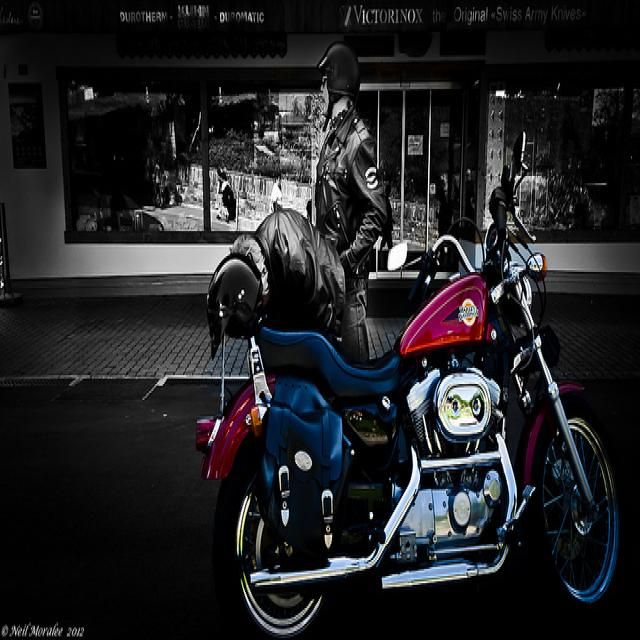motor: (210, 154, 624, 637)
